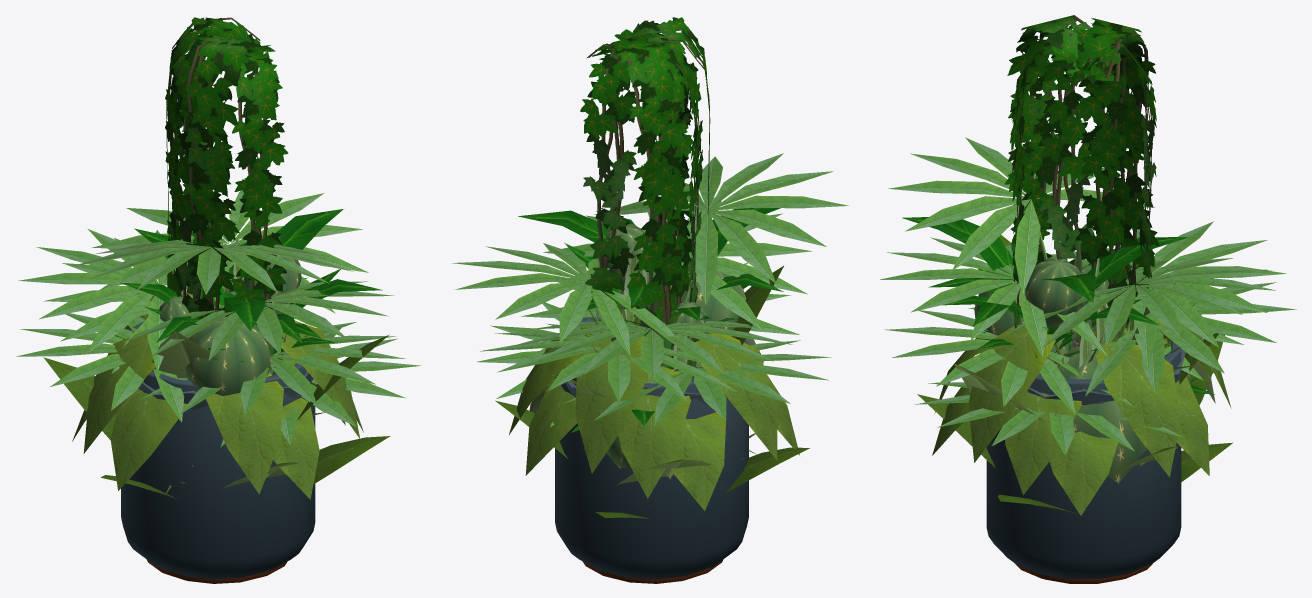
The model's file is CQ_Plants.fbx.
3 views of the same model, side by side, from view 1: azimuth 30°, elevation 25°; view 2: azimuth 150°, elevation 25°; view 3: azimuth 270°, elevation 25° (orthographic). The views are drawn at different scales.
Parts seen in each view (by area): view 1: 植栽_4, 植栽_5, 鉢_4, 植栽_3, 植栽_1, 植栽_8, 植栽_2, 鉢_2, 鉢_5; view 2: 植栽_4, 植栽_5, 鉢_4, 植栽_3, 植栽_1, 植栽_2, 植栽_8, 植栽_7, 鉢_2; view 3: 植栽_4, 植栽_5, 植栽_3, 鉢_4, 植栽_8, 植栽_1, 植栽_2, 植栽_7, 鉢_5, 鉢_2.
Part boxes in pixels (bbox=[...]): 植栽_4: bbox=[16, 190, 421, 447]; 植栽_5: bbox=[165, 17, 288, 370]; 鉢_4: bbox=[121, 321, 315, 583]; 植栽_3: bbox=[72, 286, 363, 499]; 植栽_1: bbox=[114, 209, 382, 367]; 植栽_8: bbox=[159, 244, 301, 395]; 植栽_2: bbox=[43, 314, 390, 499]; 鉢_2: bbox=[146, 559, 286, 583]; 鉢_5: bbox=[138, 371, 311, 410]; 植栽_4: bbox=[452, 153, 848, 427]; 植栽_5: bbox=[580, 17, 710, 369]; 鉢_4: bbox=[555, 317, 748, 583]; 植栽_3: bbox=[509, 327, 799, 510]; 植栽_1: bbox=[518, 208, 783, 449]; 植栽_2: bbox=[495, 266, 809, 519]; 植栽_8: bbox=[544, 224, 745, 468]; 植栽_7: bbox=[596, 240, 687, 374]; 鉢_2: bbox=[583, 560, 722, 583]; 植栽_4: bbox=[880, 137, 1296, 454]; 植栽_5: bbox=[1004, 15, 1158, 332]; 植栽_3: bbox=[932, 297, 1231, 515]; 鉢_4: bbox=[986, 340, 1181, 583]; 植栽_8: bbox=[974, 257, 1191, 483]; 植栽_1: bbox=[902, 217, 1214, 394]; 植栽_2: bbox=[917, 235, 1232, 513]; 植栽_7: bbox=[1062, 244, 1134, 371]; 鉢_5: bbox=[1027, 349, 1185, 405]; 鉢_2: bbox=[1014, 563, 1152, 583].
Bounding box in the file's own units: 251 × 363 × 259.
